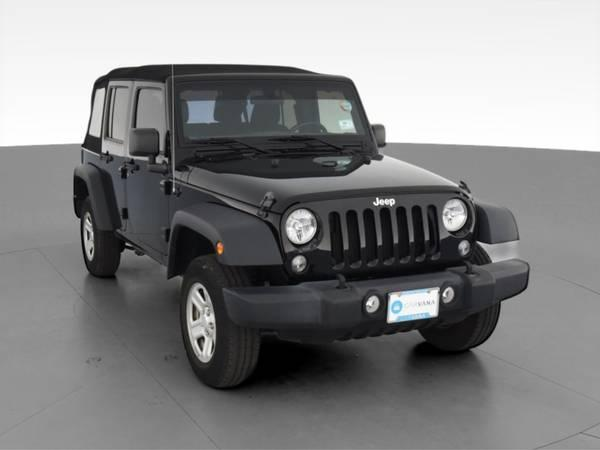Front_Bumper: (224, 258, 530, 337)
Front_Fender: (166, 177, 284, 274), (472, 198, 518, 244)
Front_Right_Door: (127, 145, 170, 270)
Front_Right_Window: (130, 81, 173, 159)
Front_Windshield: (174, 78, 377, 160)
Grille: (279, 193, 471, 280)
Hood: (170, 148, 469, 217)
Left_Headlight: (439, 197, 471, 233)
Rear_Fender: (71, 83, 110, 232)
Rear_Right_Door: (97, 140, 128, 238)
Rear_Right_Window: (102, 80, 138, 147)
Right_Headlight: (280, 205, 318, 245)
Roof: (94, 62, 351, 154)
Wheel: (179, 254, 261, 386), (78, 204, 119, 284)
